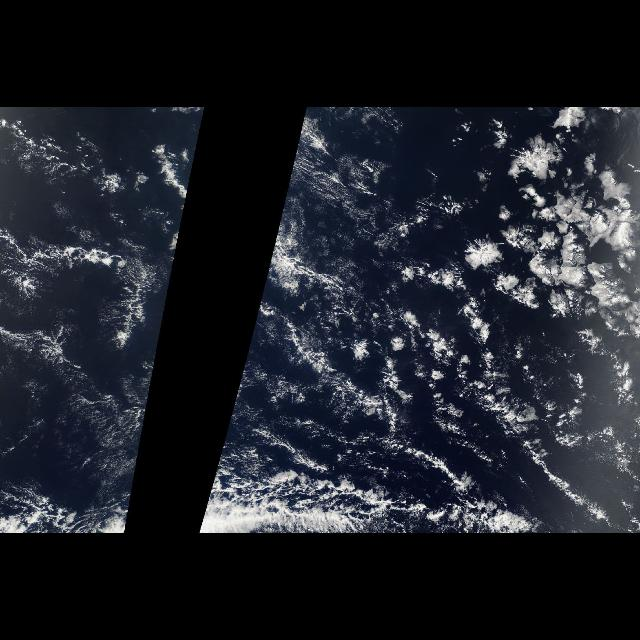Fish: (199, 439, 536, 533), (85, 439, 141, 529)
Flower: (416, 110, 638, 430)
Sugar: (419, 188, 595, 366), (5, 322, 163, 482), (213, 322, 341, 482)
